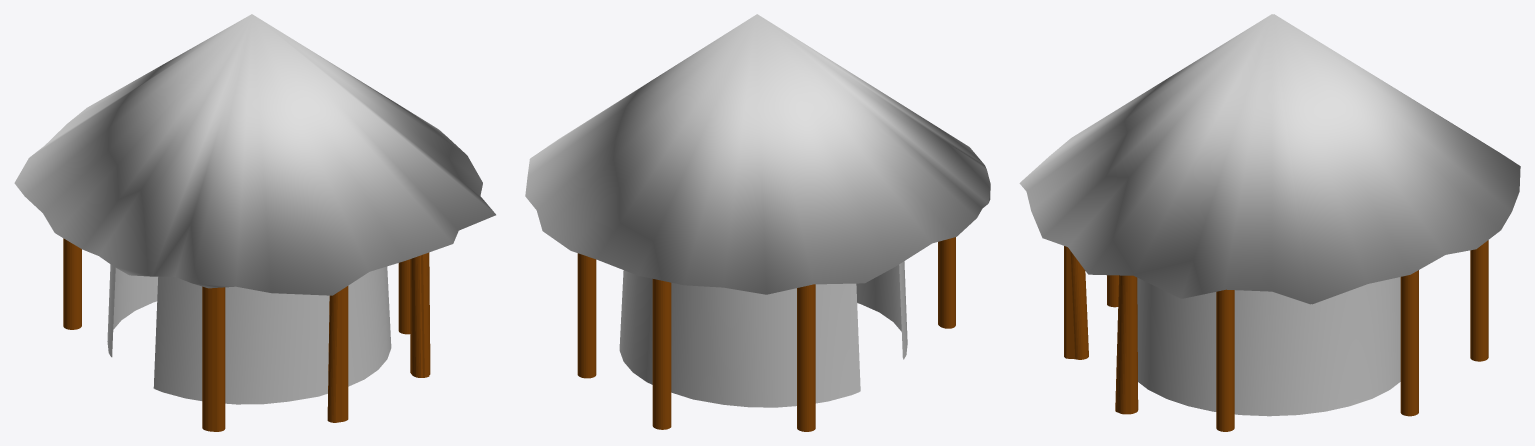
File: HUT1.fbx
The picture shows the model from 3 angles, left to right: view 1: azimuth 30°, elevation 25°; view 2: azimuth 150°, elevation 25°; view 3: azimuth 270°, elevation 25°; orthographic projection. The views are drawn at different scales.
Visible parts, largest first — view 1: Cylinder, Cylinder.009, Cylinder.006, Cylinder.001, Cylinder.005, Cylinder.007, Cylinder.003; view 2: Cylinder.009, Cylinder, Cylinder.002, Cylinder.007, Cylinder.004, Cylinder.006; view 3: Cylinder, Cylinder.009, Cylinder.005, Cylinder.004, Cylinder.003, Cylinder.001, Cylinder.002.
Boxes of the visible parts, x1,y1,x2,y2 form: Cylinder: (55, 15, 495, 404); Cylinder.009: (14, 14, 422, 388); Cylinder.006: (202, 286, 225, 431); Cylinder.001: (327, 286, 348, 422); Cylinder.005: (410, 252, 430, 377); Cylinder.007: (63, 238, 81, 329); Cylinder.003: (398, 259, 410, 334); Cylinder.009: (525, 15, 956, 407); Cylinder: (533, 14, 990, 391); Cylinder.002: (652, 279, 671, 429); Cylinder.007: (797, 284, 815, 431); Cylinder.004: (577, 253, 596, 378); Cylinder.006: (938, 237, 955, 328); Cylinder: (1019, 14, 1310, 416); Cylinder.009: (1182, 14, 1520, 416); Cylinder.005: (1115, 275, 1138, 414); Cylinder.004: (1400, 270, 1418, 416); Cylinder.003: (1216, 289, 1234, 431); Cylinder.001: (1064, 246, 1088, 359); Cylinder.002: (1470, 240, 1488, 361).
Size of the model in its own units: 1091 by 860 by 1128.
